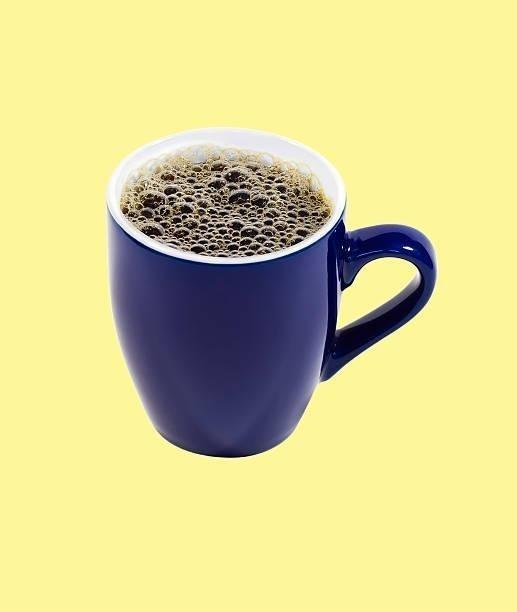cup-handle: (103, 126, 438, 459)
